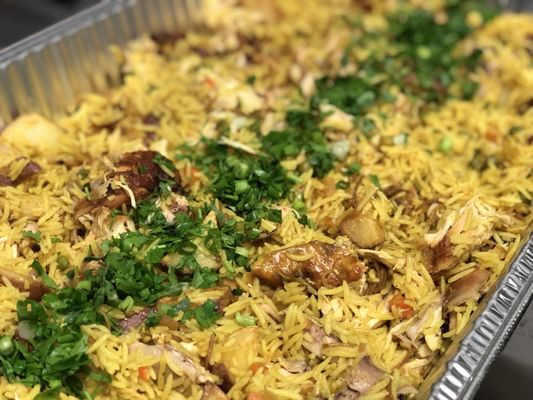sandwich: (1, 2, 532, 399)
